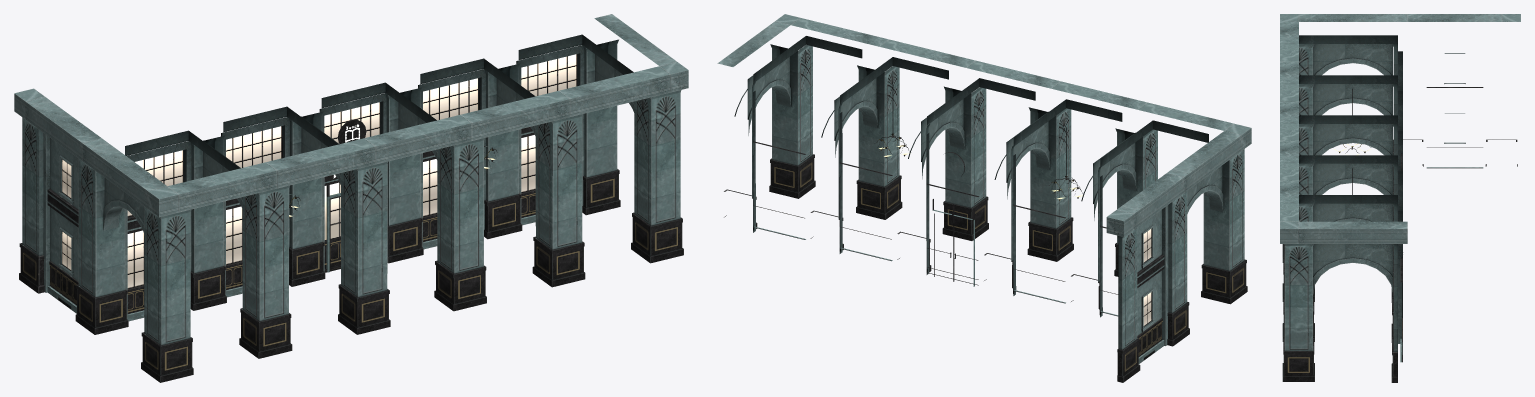
Rendered from t1_b_publication.glb.
3 views of the same model, side by side, from view 1: azimuth 30°, elevation 25°; view 2: azimuth 150°, elevation 25°; view 3: azimuth 270°, elevation 25° (orthographic). The views are drawn at different scales.
Visible parts, largest first — view 1: um_t1_b_publication_model_lod0Shape; view 2: um_t1_b_publication_model_lod0Shape; view 3: um_t1_b_publication_model_lod0Shape.
Part boxes in pixels (box(x1,y1,x2,y2)): um_t1_b_publication_model_lod0Shape: box(14, 14, 688, 382); um_t1_b_publication_model_lod0Shape: box(717, 14, 1251, 382); um_t1_b_publication_model_lod0Shape: box(1280, 14, 1520, 382).
Size of the model in its own units: 21.53 by 7.21 by 10.2.
2 materials, 2 textured.
